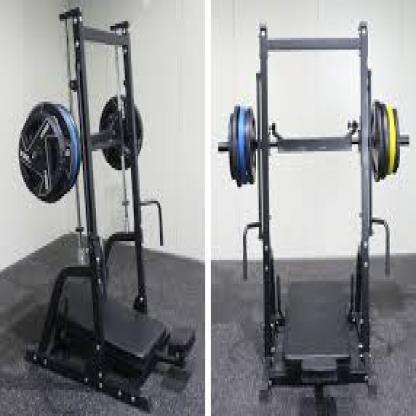smith machine: (217, 22, 409, 416), (18, 5, 198, 416)
